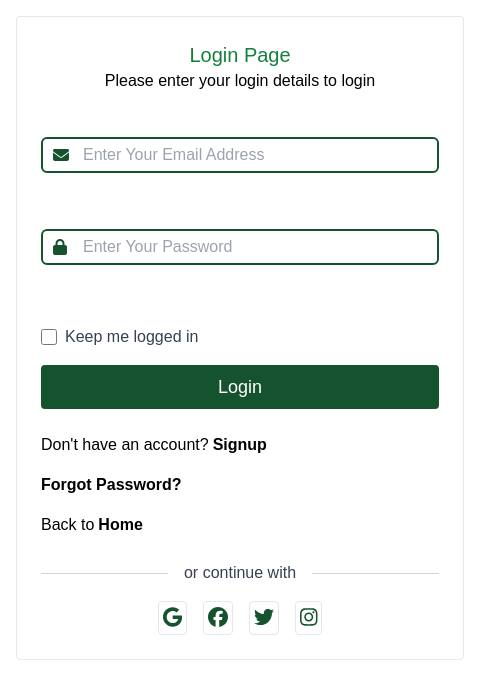
Test: Login Page › should display error messages for empty fields
Click the button "Login" at (240,387), box [41,365,439,409]
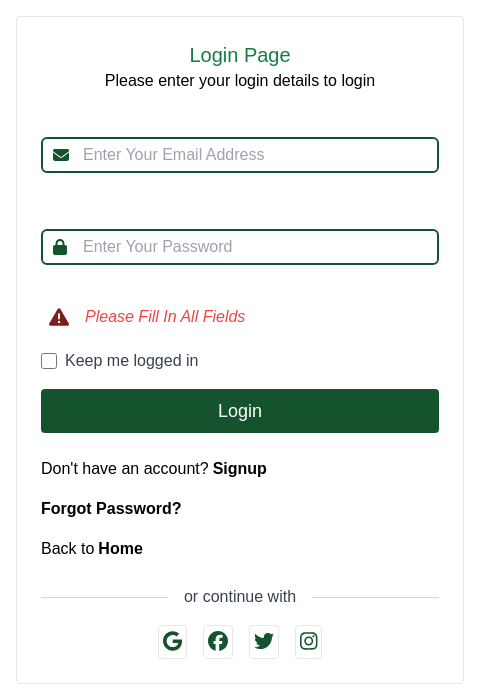
Check: the text "Please Fill In All Fields" is shown, box [85,308,245,325]
